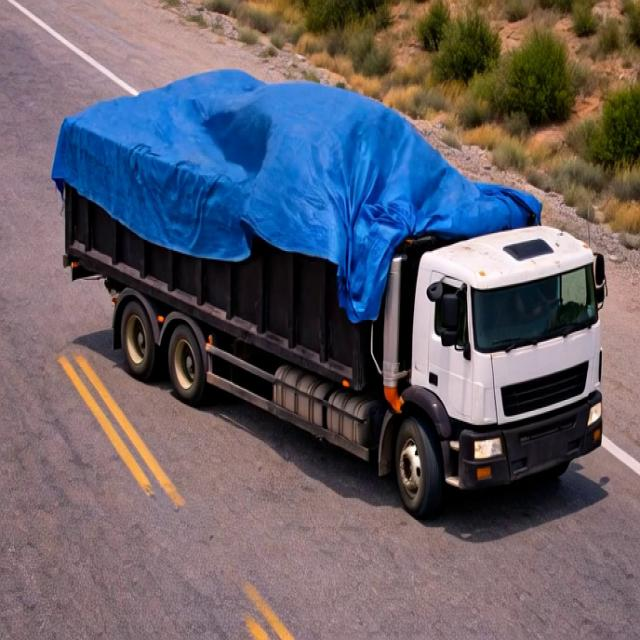Box: (54, 70, 534, 250)
Truck: (47, 38, 610, 486)
